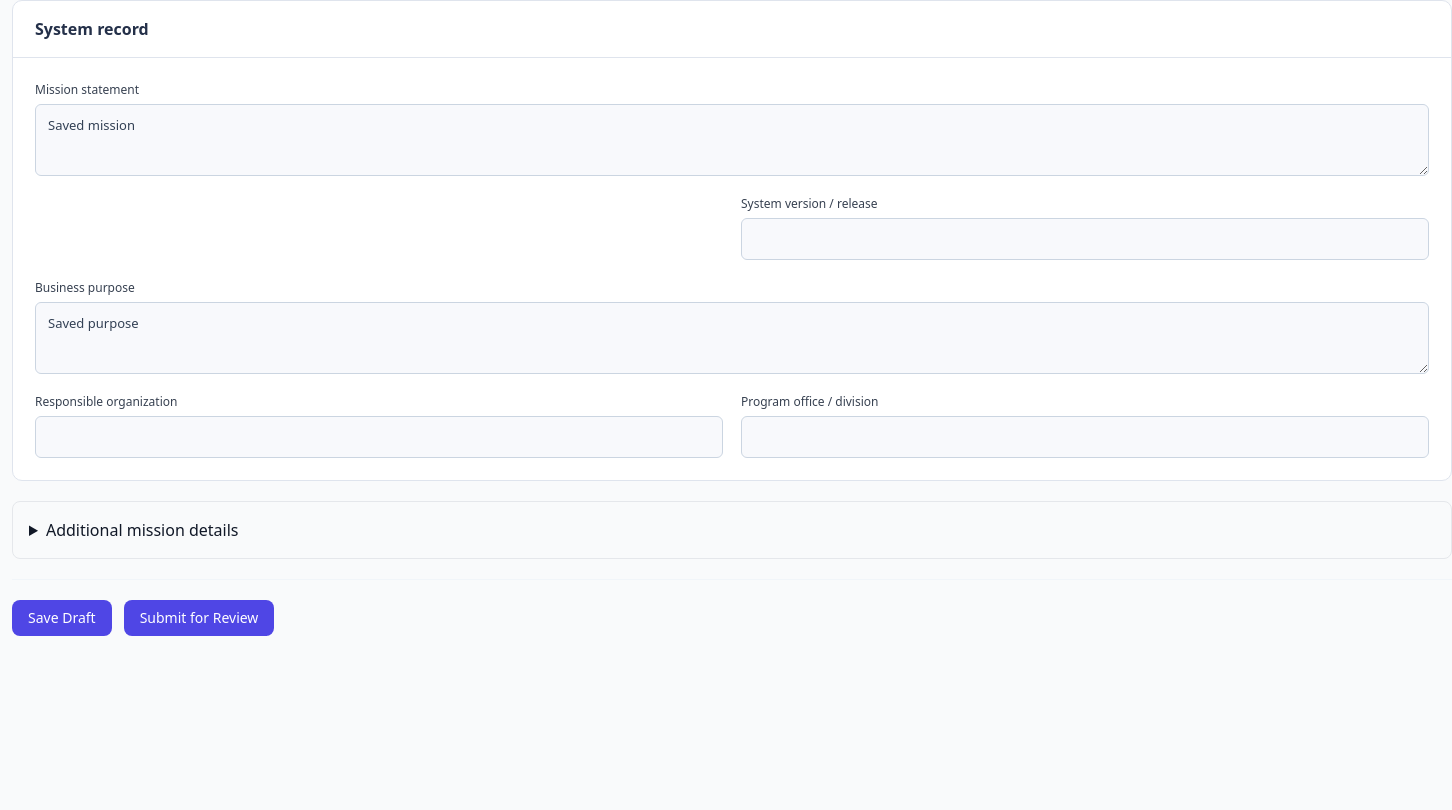
profile draft editing › restores review eligibility when edits are reverted and collapses secondary mission details
Replace the text in the text box labelled "Business purpose" with "New purpose" at {"x": 732, "y": 338}, box left=35, top=302, right=1429, bottom=374
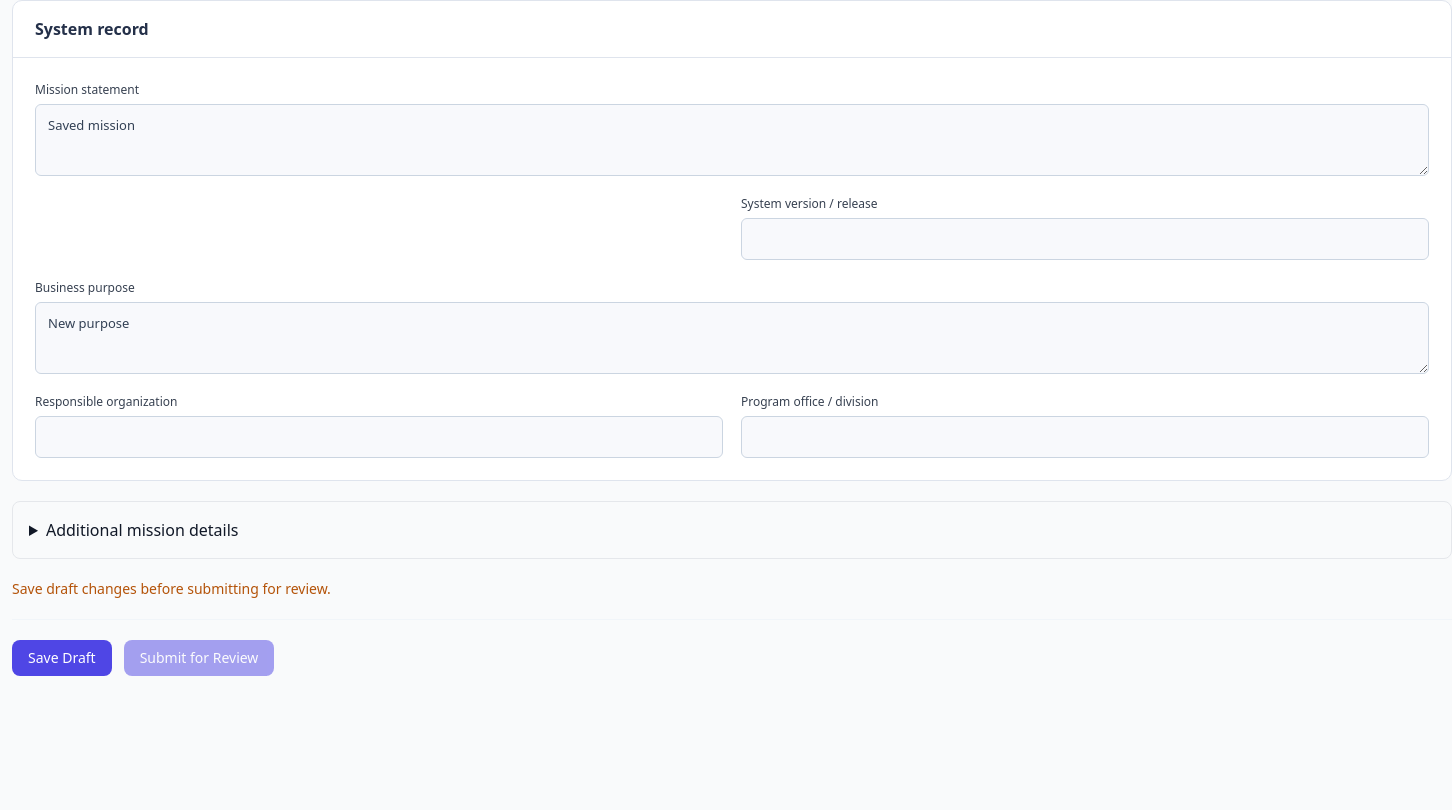
Replace the text in the text box labelled "Business purpose" with "Saved purpose" at {"x": 732, "y": 338}, box left=35, top=302, right=1429, bottom=374
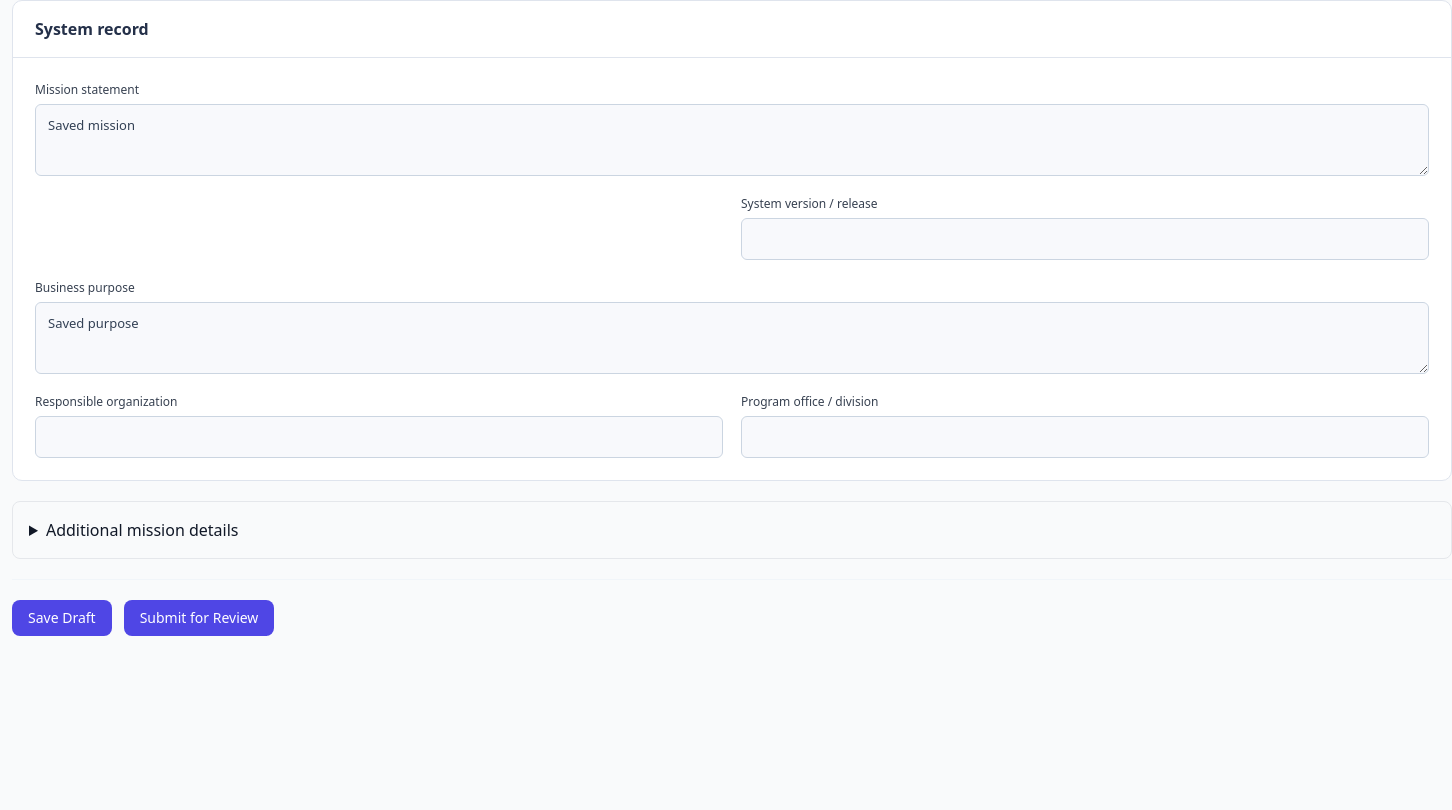
Expected: the text "Additional mission details" is shown, left=46, top=519, right=238, bottom=541
Expected: the button "Submit for Review" is enabled, left=124, top=600, right=274, bottom=636
